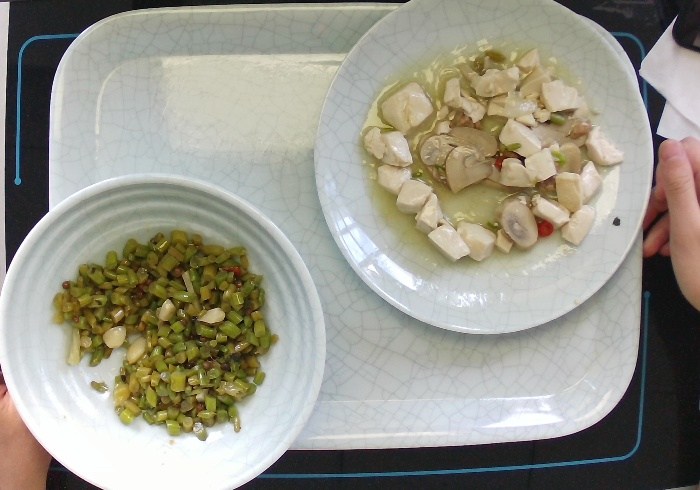JYsf-Da_Tang_Wan: (1, 172, 333, 490)
JYsf-Da_Yuan_Pan: (307, 1, 653, 338)
